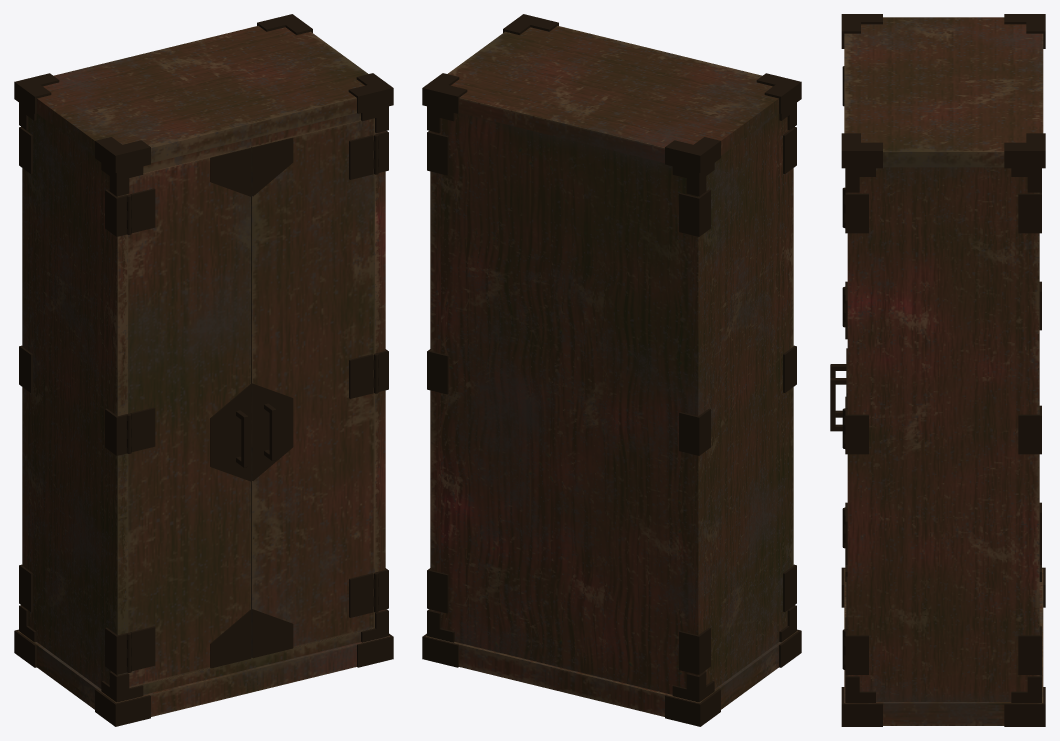
Rendered from locker_01.fbx.
3 renders of one model, left to right at view 1: azimuth 30°, elevation 25°; view 2: azimuth 150°, elevation 25°; view 3: azimuth 270°, elevation 25°, orthographic.
Parts seen in each view (by area): view 1: locker_box, locker_door_02, locker_door_01; view 2: locker_box; view 3: locker_box, locker_door_02, locker_door_01.
Part boxes in pixels (left/top/right/bottom): locker_box: left=14, top=14, right=393, bottom=726; locker_door_02: left=251, top=118, right=378, bottom=658; locker_door_01: left=126, top=147, right=251, bottom=687; locker_box: left=422, top=14, right=801, bottom=726; locker_box: left=841, top=14, right=1045, bottom=726; locker_door_02: left=830, top=194, right=847, bottom=664; locker_door_01: left=830, top=73, right=847, bottom=576.
Bounding box in the file's own units: 114 × 224 × 75.81.
1 material, 1 textured.
